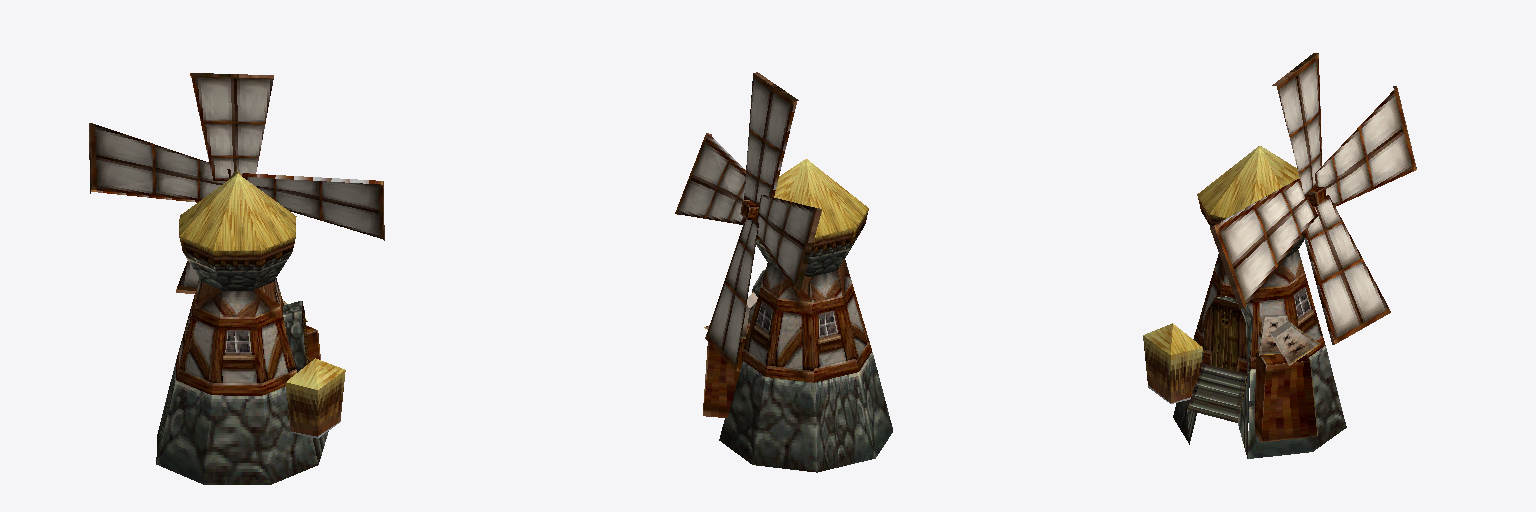
3 renders of one model, left to right at view 1: azimuth 30°, elevation 25°; view 2: azimuth 150°, elevation 25°; view 3: azimuth 270°, elevation 25°, orthographic.
Visible parts, largest first — view 1: WindMill(m0); view 2: WindMill(m0); view 3: WindMill(m0).
Part boxes in pixels (left/top/right/bottom): WindMill(m0): left=89, top=73, right=384, bottom=484; WindMill(m0): left=675, top=72, right=892, bottom=472; WindMill(m0): left=1143, top=53, right=1416, bottom=458.
Bounding box in the file's own units: 6.89 × 10.69 × 7.37.
Materials: 1 (1 with a texture image).